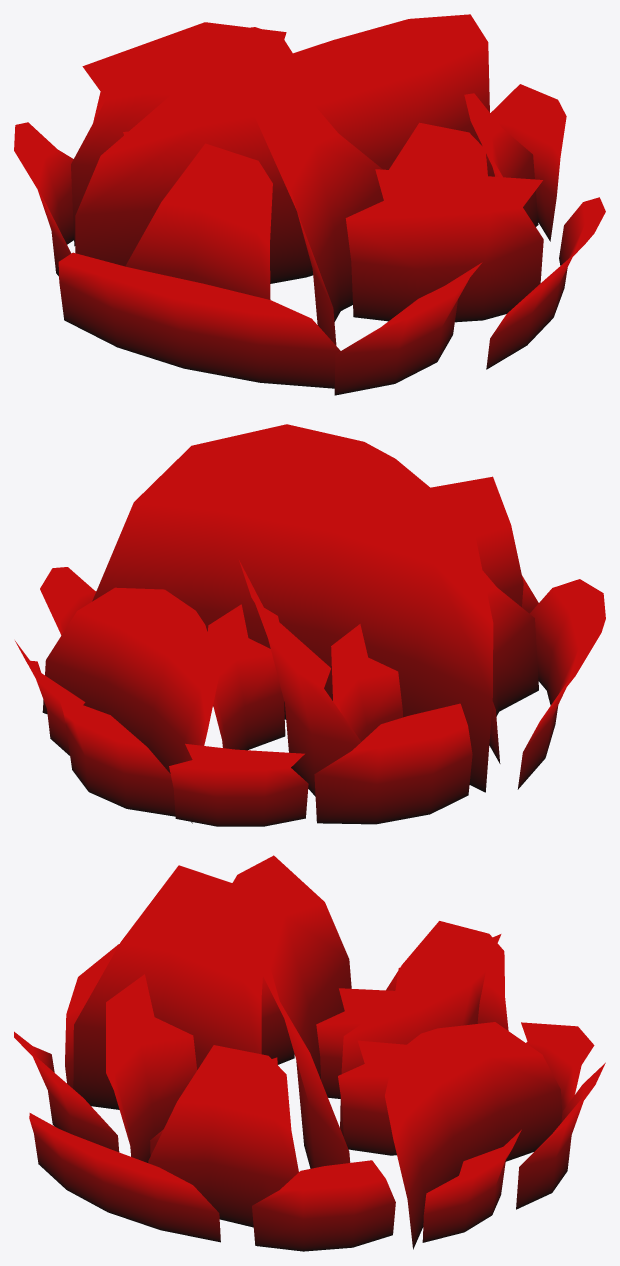
File: Large_Grass.FBX
The picture shows the model from 3 angles, top to bottom: view 1: azimuth 30°, elevation 25°; view 2: azimuth 150°, elevation 25°; view 3: azimuth 270°, elevation 25°; orthographic projection. The views are drawn at different scales.
Parts seen in each view (by area): view 1: Grass002, Grass_009, Grass004, Grass_008, Grass_006, Grass_007, Grass_012, Grass_014, Grass005, Grass_011, Grass_019, Grass_010; view 2: Grass002, Grass003, Grass_011, Grass_013, Grass_007, Grass_016, Grass_017, Grass004, Grass_018, Grass_008, Grass_006, Grass_014 (+1 smaller); view 3: Grass_006, Grass003, Grass002, Grass_010, Grass005, Grass_009, Grass_014, Grass_007, Grass_015, Grass_017, Grass_011, Grass_016 (+5 smaller).
Part boxes in pixels (box(x1,y1,x2,y2)): Grass002: box(75, 14, 489, 283); Grass_009: box(345, 169, 543, 322); Grass004: box(58, 252, 340, 388); Grass_008: box(125, 143, 272, 299); Grass_006: box(254, 78, 383, 345); Grass_007: box(71, 22, 286, 246); Grass_012: box(334, 262, 482, 395); Grass_014: box(486, 84, 566, 241); Grass005: box(486, 197, 605, 369); Grass_011: box(14, 122, 73, 276); Grass_019: box(389, 122, 487, 176); Grass_010: box(464, 93, 538, 226); Grass002: box(92, 424, 493, 792); Grass003: box(42, 587, 219, 823); Grass_011: box(314, 703, 472, 824); Grass_013: box(169, 743, 308, 826); Grass_007: box(239, 560, 360, 796); Grass_016: box(59, 697, 175, 816); Grass_017: box(207, 604, 285, 750); Grass004: box(517, 579, 605, 789); Grass_018: box(331, 624, 402, 741); Grass_008: box(482, 571, 538, 763); Grass_006: box(357, 476, 523, 607); Grass_014: box(40, 567, 96, 635); Grass_006: box(73, 865, 266, 1109); Grass003: box(385, 1022, 562, 1249); Grass002: box(231, 855, 351, 1168); Grass_010: box(148, 1045, 298, 1227); Grass005: box(29, 1113, 220, 1242); Grass_009: box(106, 974, 197, 1162); Grass_014: box(252, 1160, 395, 1251); Grass_007: box(340, 934, 501, 1136); Grass_015: box(422, 1129, 521, 1242); Grass_017: box(338, 1040, 406, 1155); Grass_011: box(386, 921, 508, 1030); Grass_016: box(516, 1062, 605, 1209).
Size of the model in its own units: 113 by 56.35 by 118.
